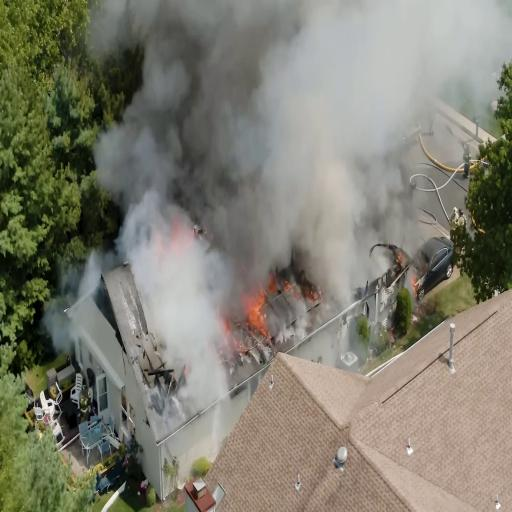smoke: (144, 0, 253, 186), (266, 0, 431, 118), (254, 64, 362, 234), (150, 214, 222, 358)
